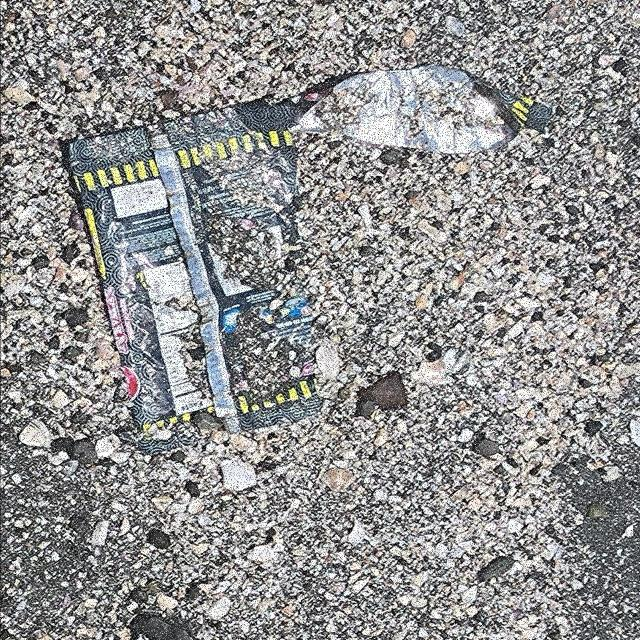plastic_waste: (67, 64, 558, 460)
